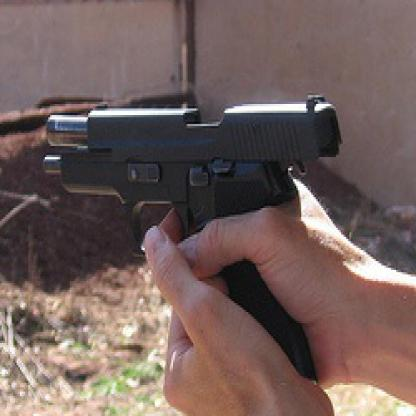gun: (37, 95, 340, 387)
